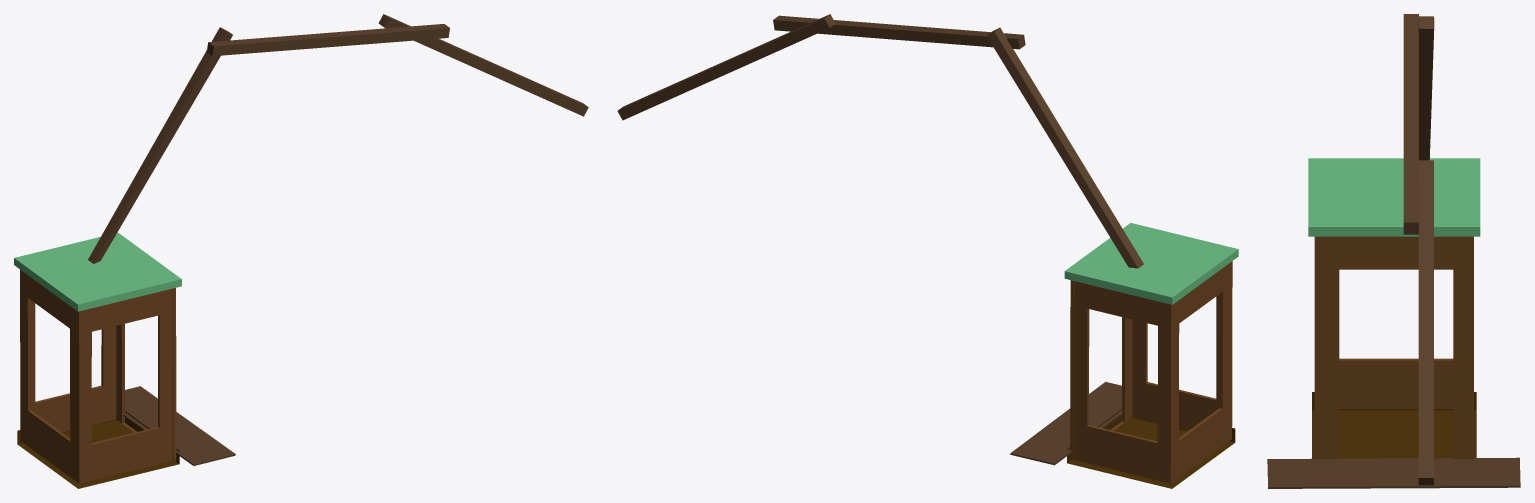
Rendered from house_bird.glb.
3 renders of one model, left to right at view 1: azimuth 30°, elevation 25°; view 2: azimuth 150°, elevation 25°; view 3: azimuth 270°, elevation 25°, orthographic. The views are drawn at different scales.
Parts seen in each view (by area): view 1: Cube.006; view 2: Cube.006; view 3: Cube.006.
Boxes of the visible parts, bbox=[...] form: Cube.006: bbox=[14, 14, 588, 488]; Cube.006: bbox=[617, 14, 1238, 488]; Cube.006: bbox=[1267, 14, 1520, 488].
Bounding box in the file's own units: 31.19 × 20.7 × 9.18.
